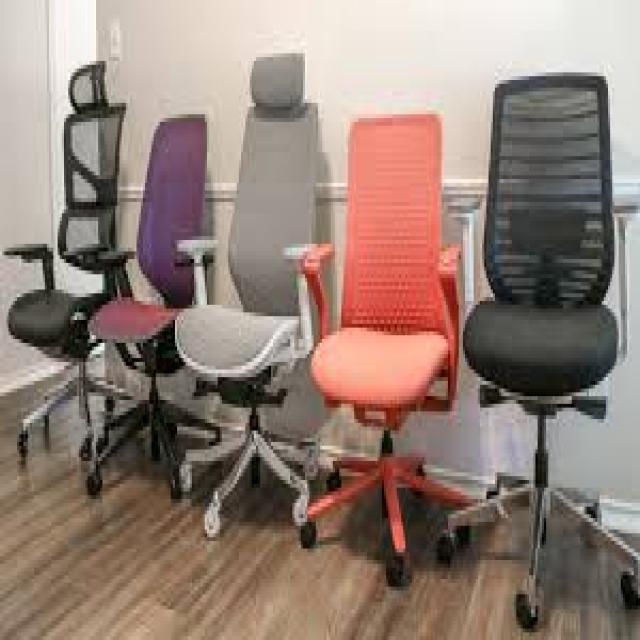chair: (418, 61, 640, 640), (261, 93, 491, 602), (169, 40, 337, 572), (74, 94, 228, 515), (1, 61, 139, 499), (223, 512, 224, 513)
